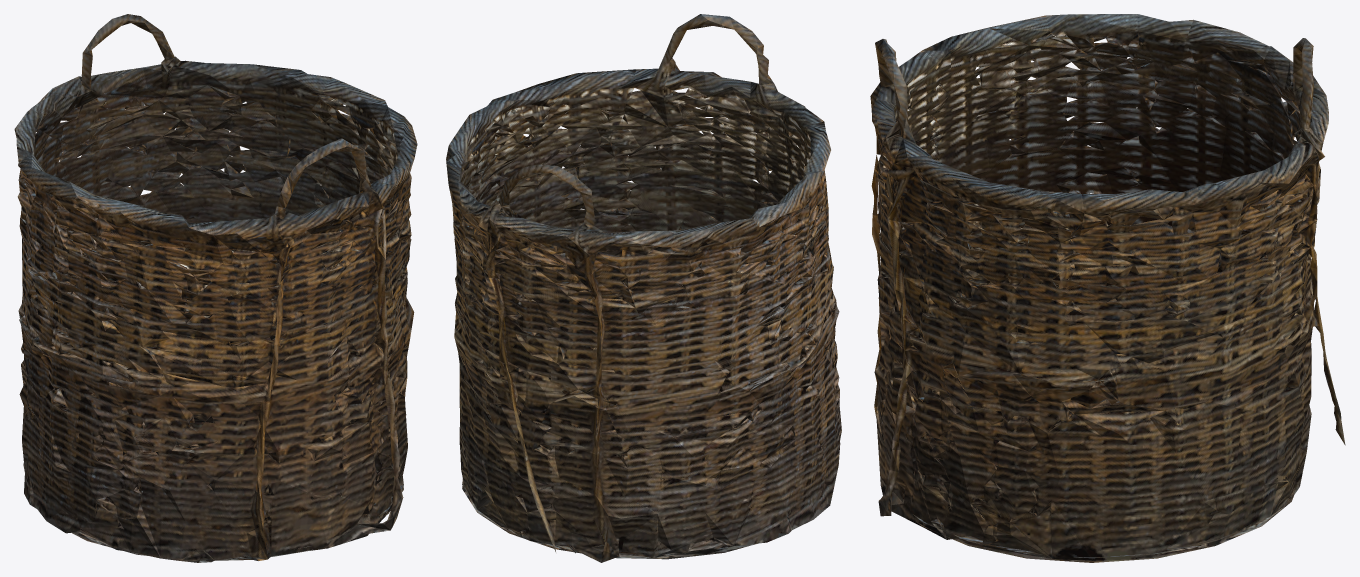
Rendered from MOD_BasketD.fbx.
The picture shows the model from 3 angles, left to right: view 1: azimuth 30°, elevation 25°; view 2: azimuth 150°, elevation 25°; view 3: azimuth 270°, elevation 25°; orthographic projection. The views are drawn at different scales.
Parts seen in each view (by area): view 1: MOD_BasketD; view 2: MOD_BasketD; view 3: MOD_BasketD.
Boxes of the visible parts, x1,y1,x2,y2 form: MOD_BasketD: [14, 14, 417, 562]; MOD_BasketD: [446, 14, 841, 562]; MOD_BasketD: [870, 14, 1345, 562].
Size of the model in its own units: 46.29 by 51.7 by 50.01.
